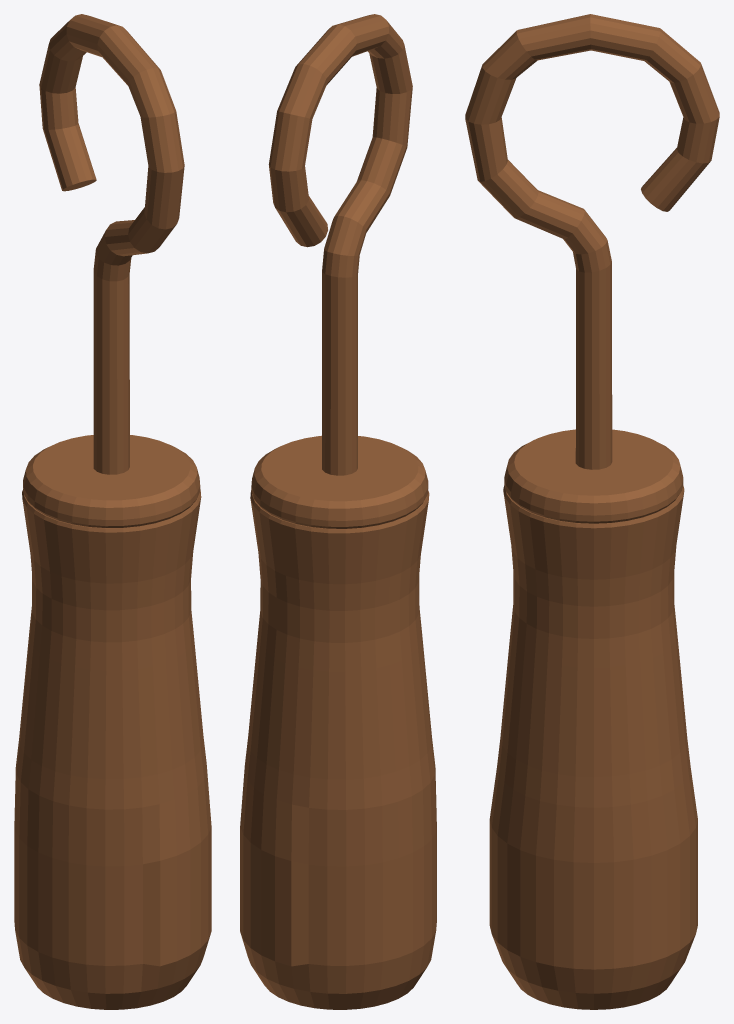
The model's file is LoopThing.fbx.
3 renders of one model, left to right at view 1: azimuth 30°, elevation 25°; view 2: azimuth 150°, elevation 25°; view 3: azimuth 270°, elevation 25°, orthographic.
Visible parts, largest first — view 1: Cylinder; view 2: Cylinder; view 3: Cylinder.
Part boxes in pixels (x1,y1,x2,y2): Cylinder: (14, 14, 211, 1009); Cylinder: (240, 14, 436, 1009); Cylinder: (465, 14, 719, 1009).
Size of the model in its own units: 202 by 1088 by 259.
